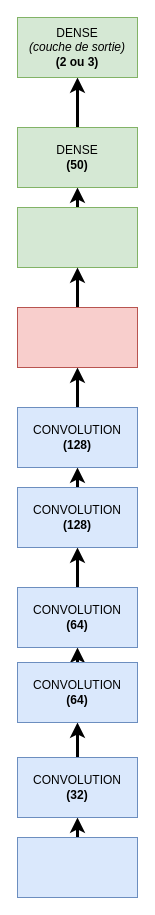
The diagram is 155 pixels wide and 915 high, and some of its shapes have lost their labels. Each missing label, with the centre of its shape:
CONVOLUTION (couche d'entrée) (64): [77,867]
DENSE (500): [77,237]
FLATTEN: [77,337]
